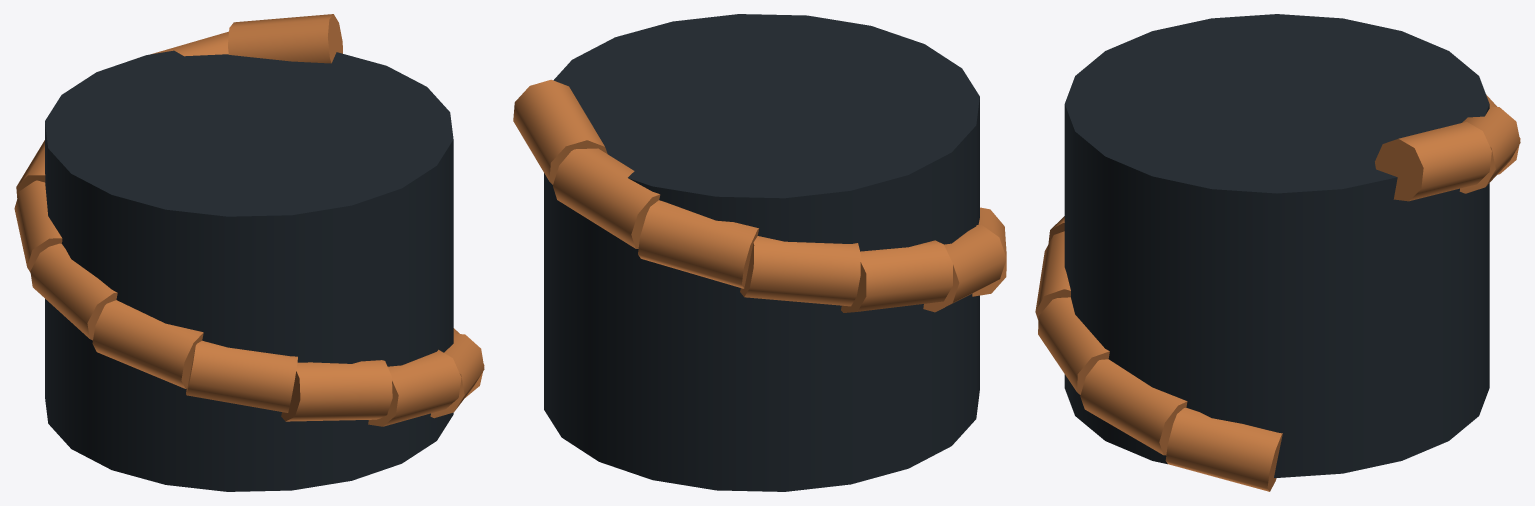
The model's file is catalogue-conductor.glb.
3 renders of one model, left to right at view 1: azimuth 30°, elevation 25°; view 2: azimuth 150°, elevation 25°; view 3: azimuth 270°, elevation 25°, orthographic. The views are drawn at different scales.
Bounding box in the file's own units: 0.525 × 0.3953 × 0.5254.
